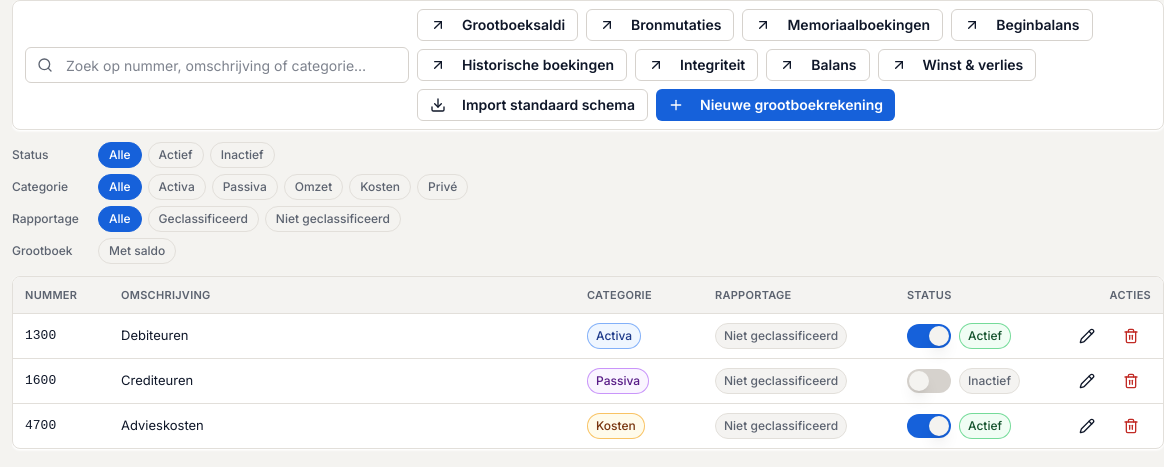
Rekeningschema — zoeken en filters › zoekt op categorie
Type "kosten" into the field with placeholder "Zoek op nummer, omschrijving of categorie…". click: (217, 65)
box: [25,47,409,83]
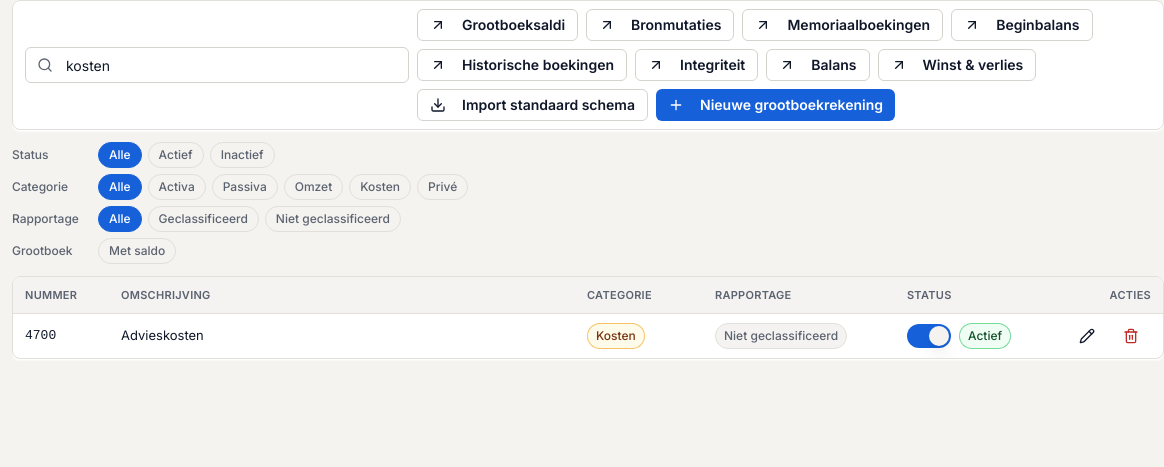
Expected: the text "Advieskosten" is shown, [109,313,575,358]
Expected: the text "Debiteuren" is gone
Expected: the text "Crediteuren" is gone
